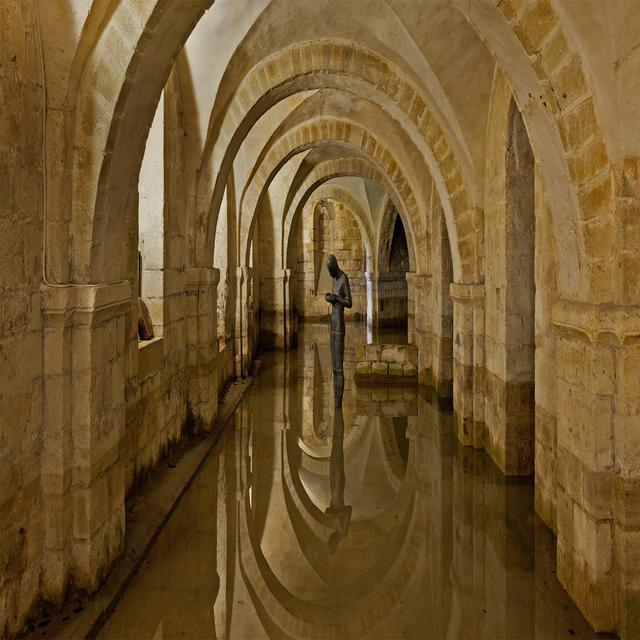Person-RiskLevel2: (312, 245, 366, 392)
